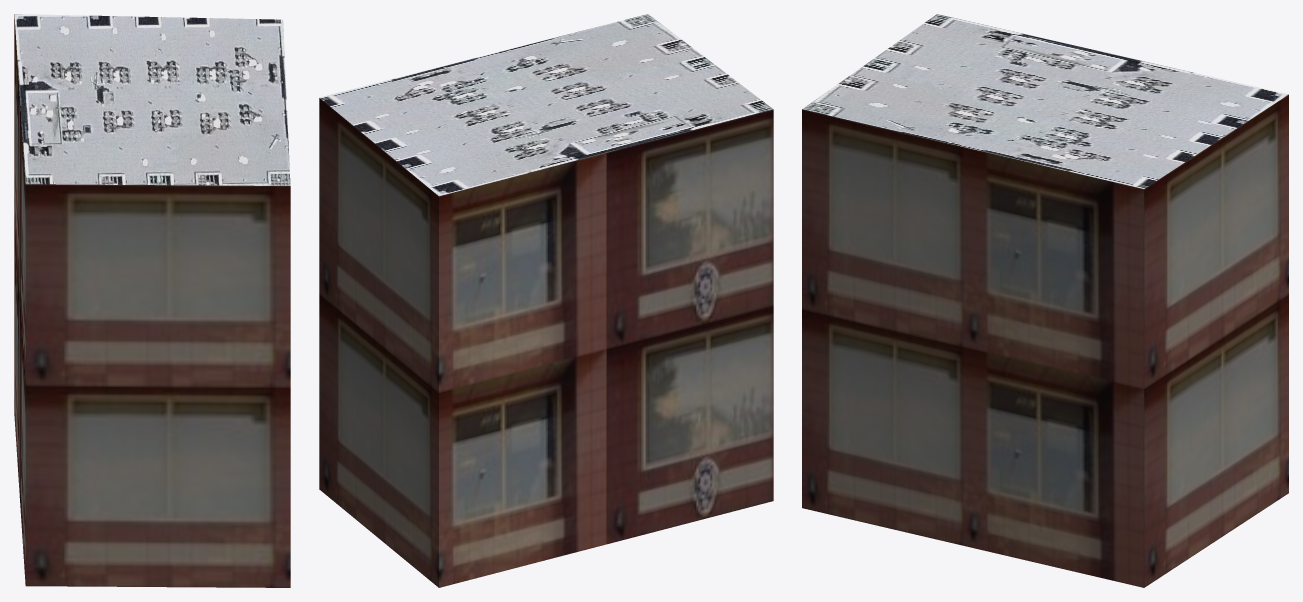
The model's file is ResTex__1915.fbx.
3 views of the same model, side by side, from view 1: azimuth 30°, elevation 25°; view 2: azimuth 150°, elevation 25°; view 3: azimuth 270°, elevation 25° (orthographic). The views are drawn at different scales.
Parts seen in each view (by area): view 1: CityEngineMaterial_13_m, CityEngineMaterial_4_m; view 2: CityEngineMaterial_13_m, CityEngineMaterial_4_m; view 3: CityEngineMaterial_13_m, CityEngineMaterial_4_m.
Boxes of the visible parts, bbox=[...] form: CityEngineMaterial_13_m: bbox=[14, 14, 290, 587]; CityEngineMaterial_4_m: bbox=[14, 14, 290, 185]; CityEngineMaterial_13_m: bbox=[319, 98, 773, 587]; CityEngineMaterial_4_m: bbox=[319, 14, 772, 196]; CityEngineMaterial_13_m: bbox=[802, 94, 1288, 587]; CityEngineMaterial_4_m: bbox=[802, 14, 1288, 188].
Size of the model in its own units: 5.65 by 6 by 6.64.
Materials: 2 (2 with a texture image).
